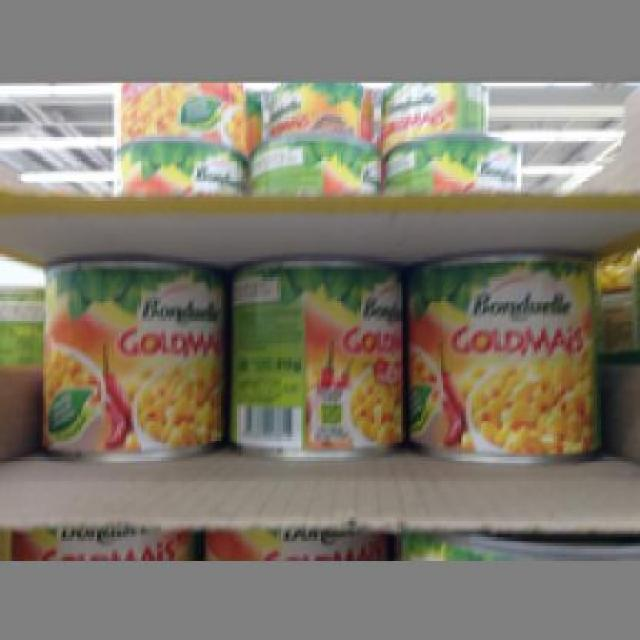Corn: (403, 249, 600, 460), (37, 254, 223, 460), (226, 257, 403, 460), (106, 119, 234, 192), (377, 123, 520, 186), (237, 128, 377, 192)
